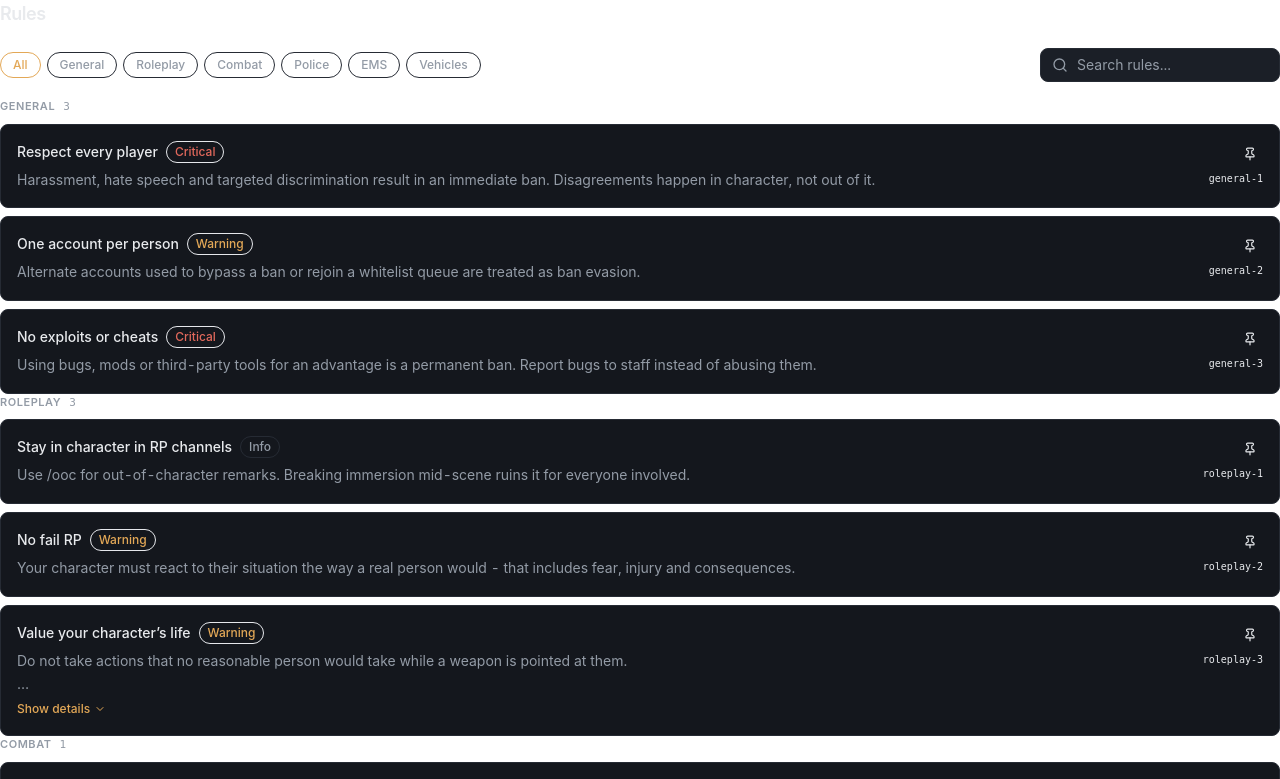
Test: RulesPage › filters by text and shows a no-matches state
This screenshot has width=1280, height=779.
In the search field labelled "Search rules...": (1160, 65) [1040,48,1279,82], type "deathmatch"
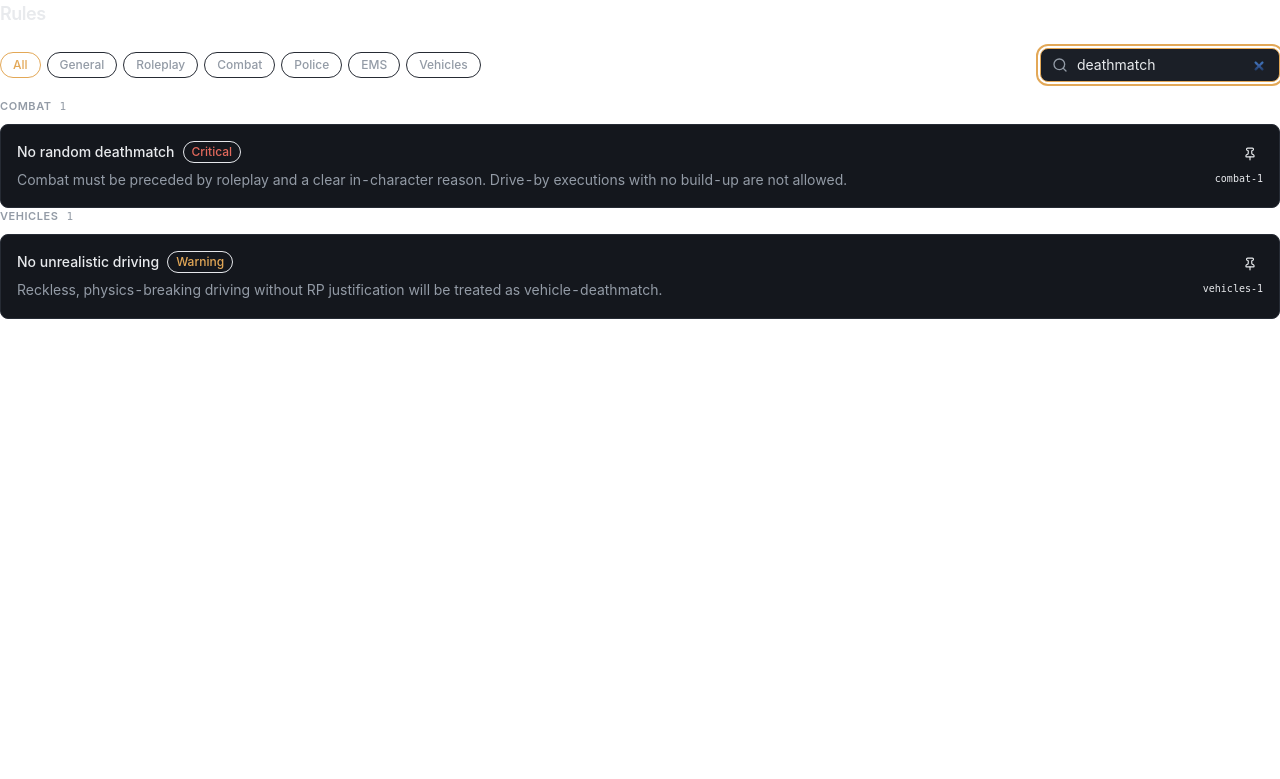
Check: the heading "No random deathmatch" is shown, box [17,142,174,162]
Check: the heading "Respect every player" is gone
Replace the text in the search field named "Search rules..." with "qqqq": (1160, 65) [1040,48,1279,82]
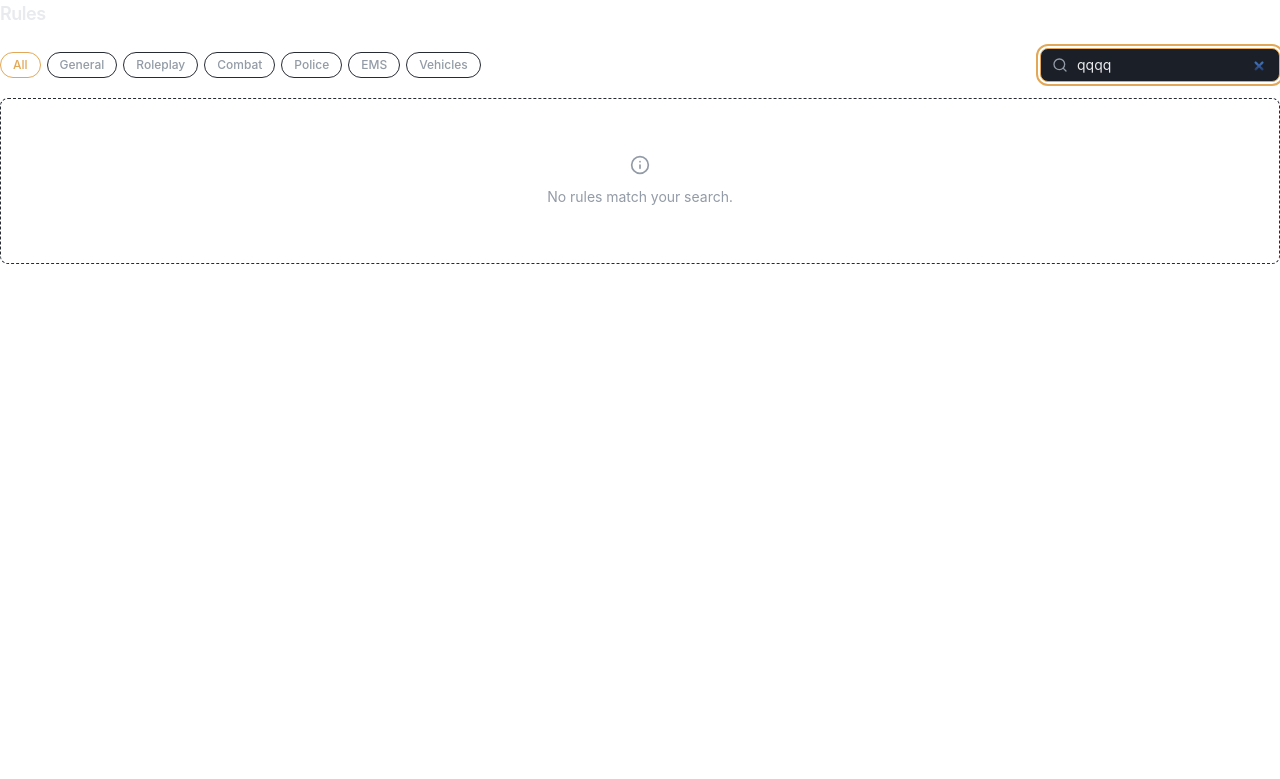
Check: the text "No rules match your search." is shown, box [547,187,733,207]
